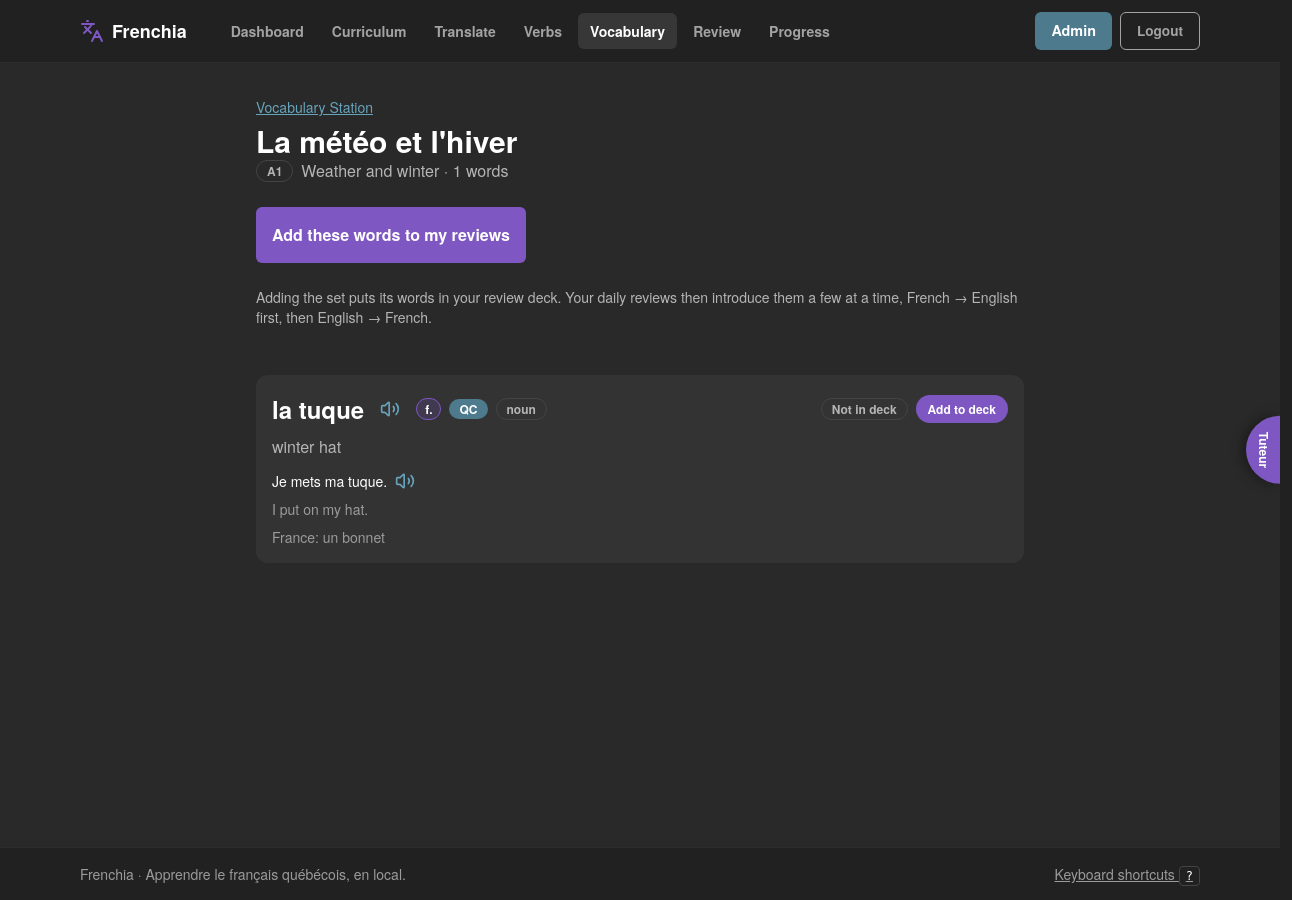
Vocabulary Station › adds a set to the reviews
expect the text "la tuque" is shown: met, box left=272, top=393, right=364, bottom=425
expect the text titled "Québec usage" reads "QC": met, box left=460, top=400, right=478, bottom=418
Click the button "Add these words to my reviews". click: (391, 235)
box: left=256, top=207, right=526, bottom=263
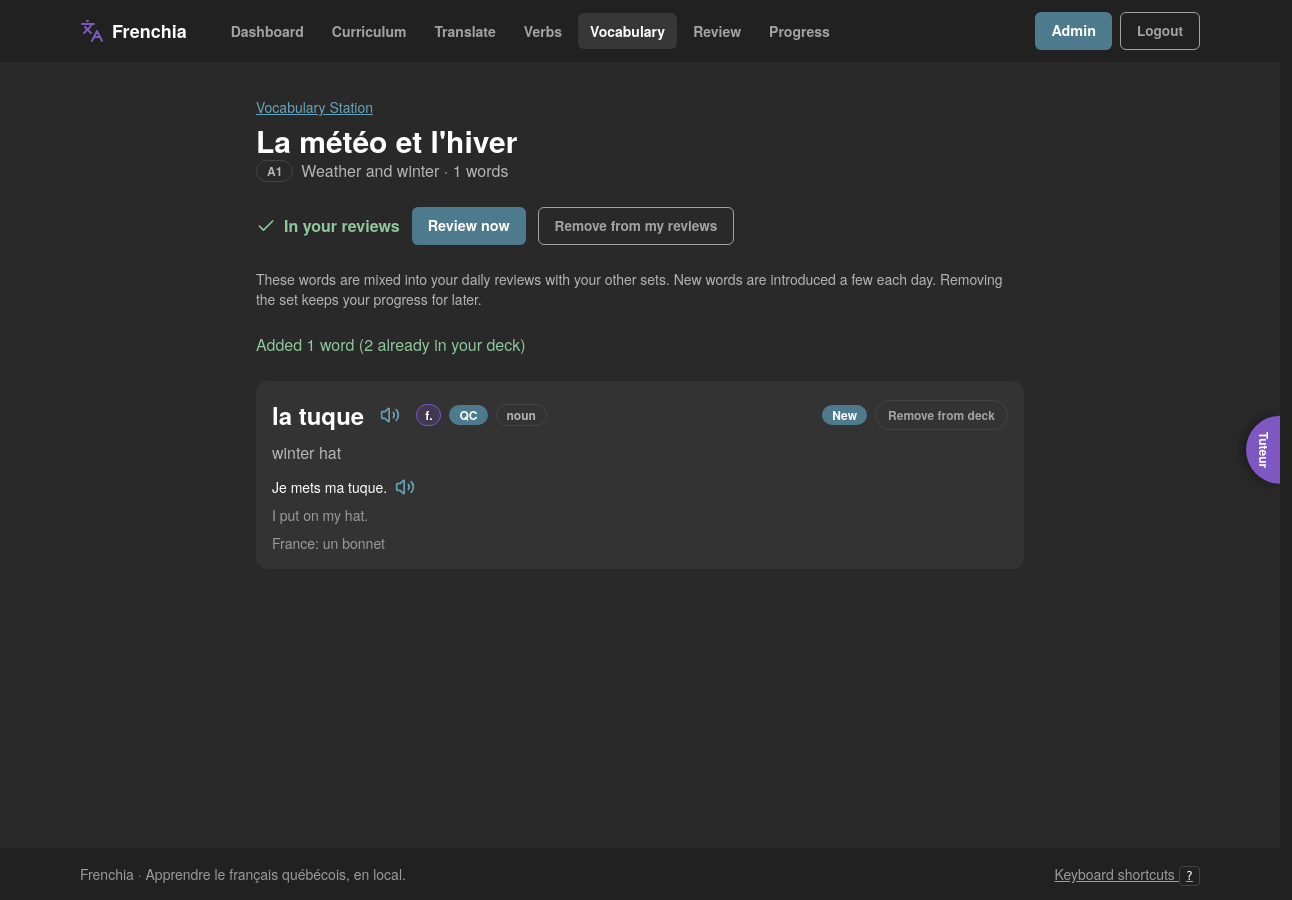
expect the text "Added 1 word (2 already in your deck)" is shown: met, box left=256, top=333, right=526, bottom=356
expect the text "In your reviews" is shown: met, box left=256, top=214, right=400, bottom=238
